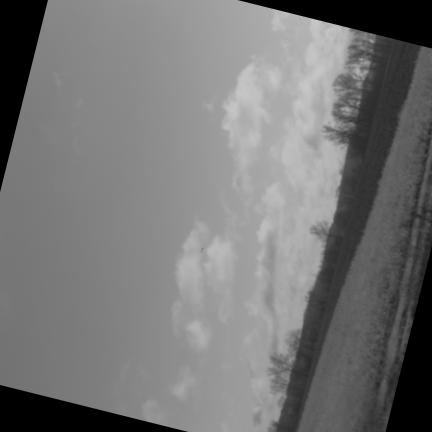Shahed: (199, 245, 203, 253)
